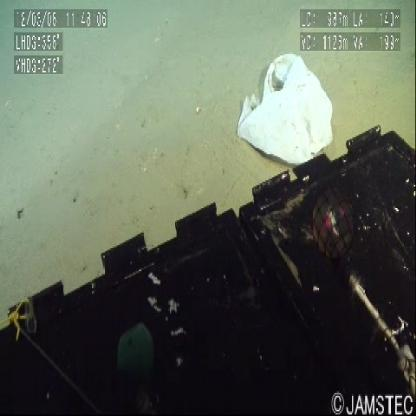Rov: (1, 117, 416, 416)
Rác: (232, 46, 354, 176)
